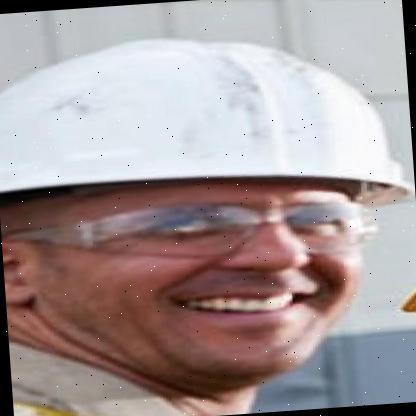capacete: (0, 23, 390, 205)
oculos: (11, 186, 383, 277)
